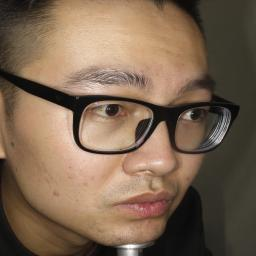ance: (28, 156, 56, 188), (136, 62, 162, 76), (79, 172, 97, 192), (91, 218, 109, 236), (64, 164, 80, 184), (51, 186, 65, 202), (178, 173, 192, 185)
